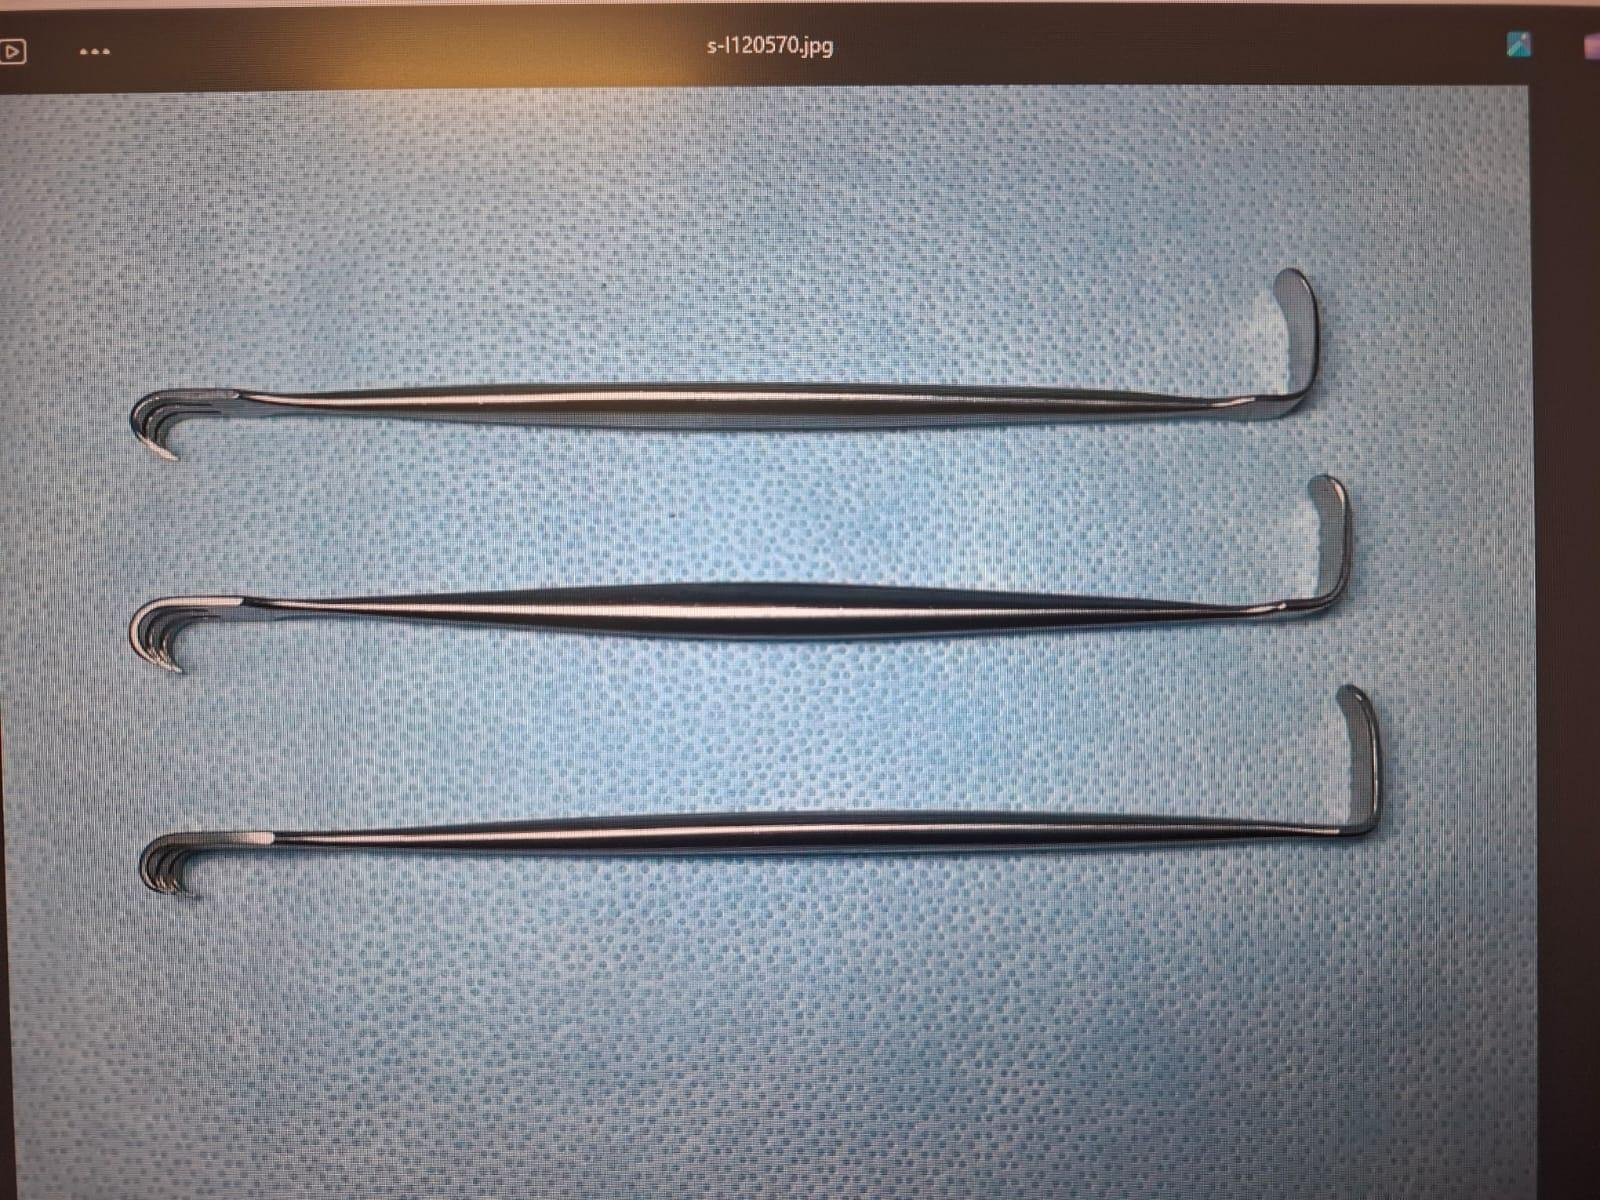Senn Retractor: (120, 676, 1400, 937), (118, 463, 1385, 706), (120, 262, 1351, 484)
